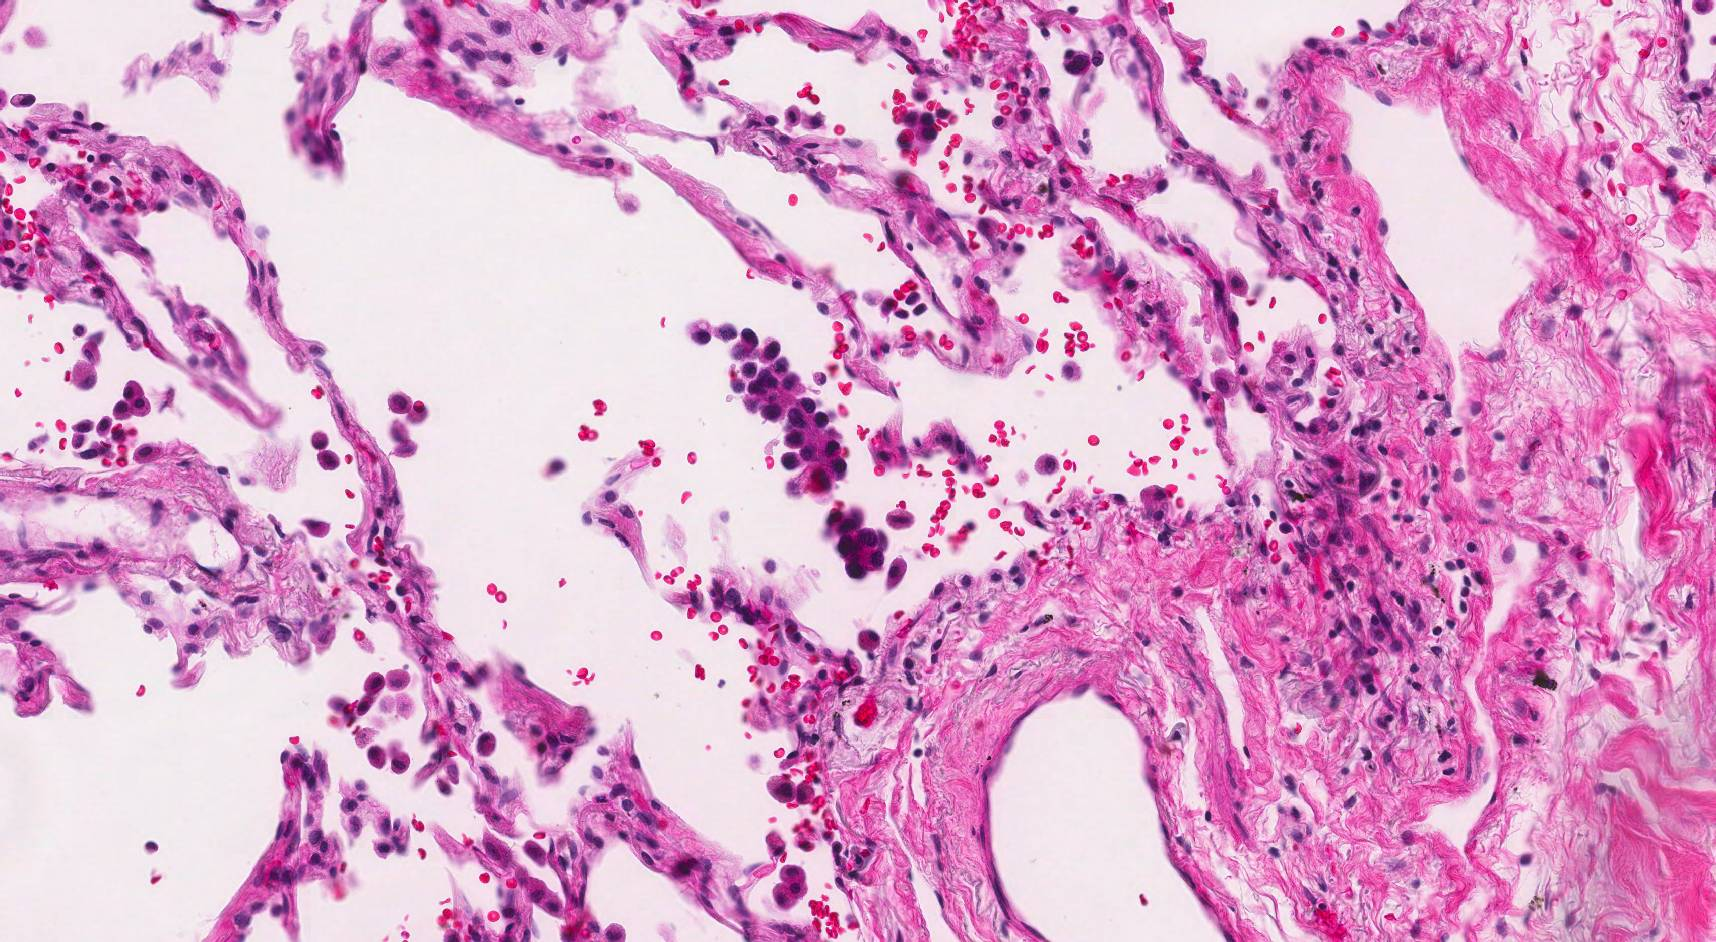stas: (686, 320, 849, 499), (822, 503, 888, 581)
